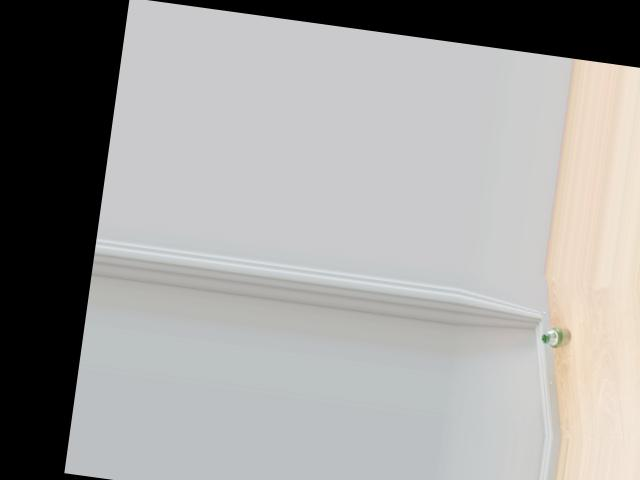beer: (541, 325, 572, 349)
